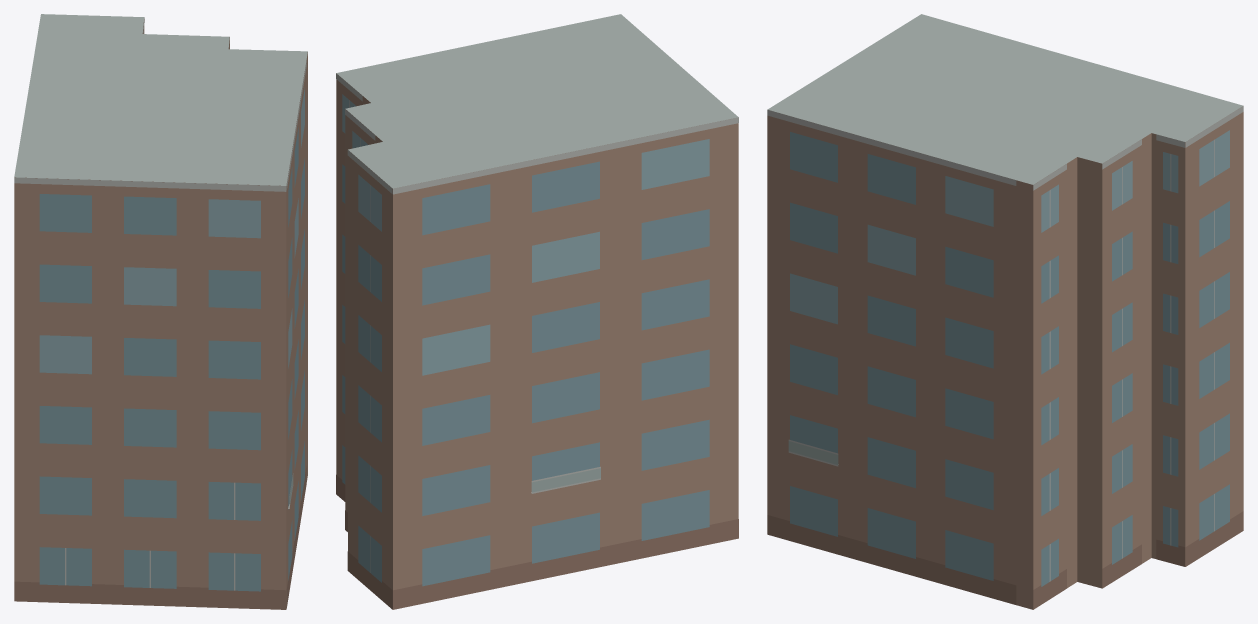
File: survey-upis-32894026.glb
3 views of the same model, side by side, from view 1: azimuth 30°, elevation 25°; view 2: azimuth 150°, elevation 25°; view 3: azimuth 270°, elevation 25° (orthographic).
Visible parts, largest first — view 1: survey-upis-32894026.tmp; view 2: survey-upis-32894026.tmp; view 3: survey-upis-32894026.tmp.
Boxes of the visible parts, left/top/right/bottom form: survey-upis-32894026.tmp: left=14, top=14, right=307, bottom=609; survey-upis-32894026.tmp: left=336, top=14, right=738, bottom=609; survey-upis-32894026.tmp: left=767, top=14, right=1243, bottom=609.
Size of the model in its own units: 15.11 by 17.5 by 17.78.
